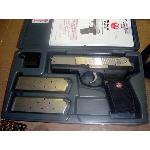Pistol: (51, 53, 137, 115)
